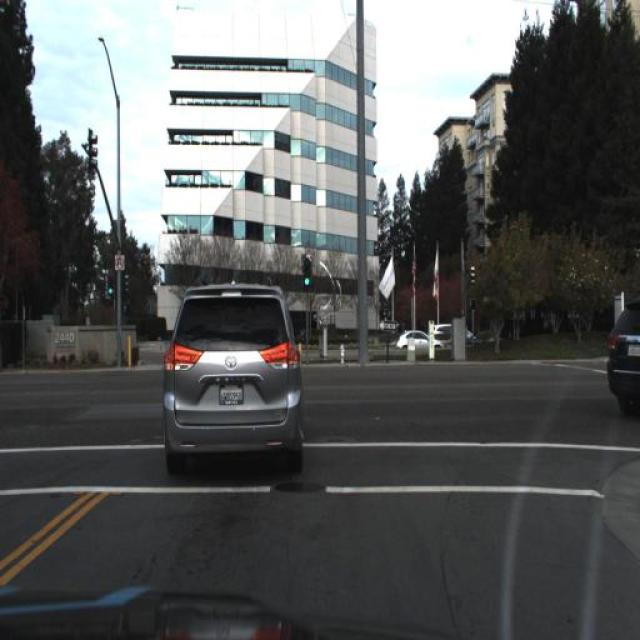car: (160, 280, 311, 480), (606, 305, 640, 420), (431, 318, 475, 354), (397, 326, 442, 354)
trafficLight-GreenLeft: (296, 233, 320, 308), (94, 264, 115, 311), (300, 249, 312, 291), (103, 270, 116, 300)
